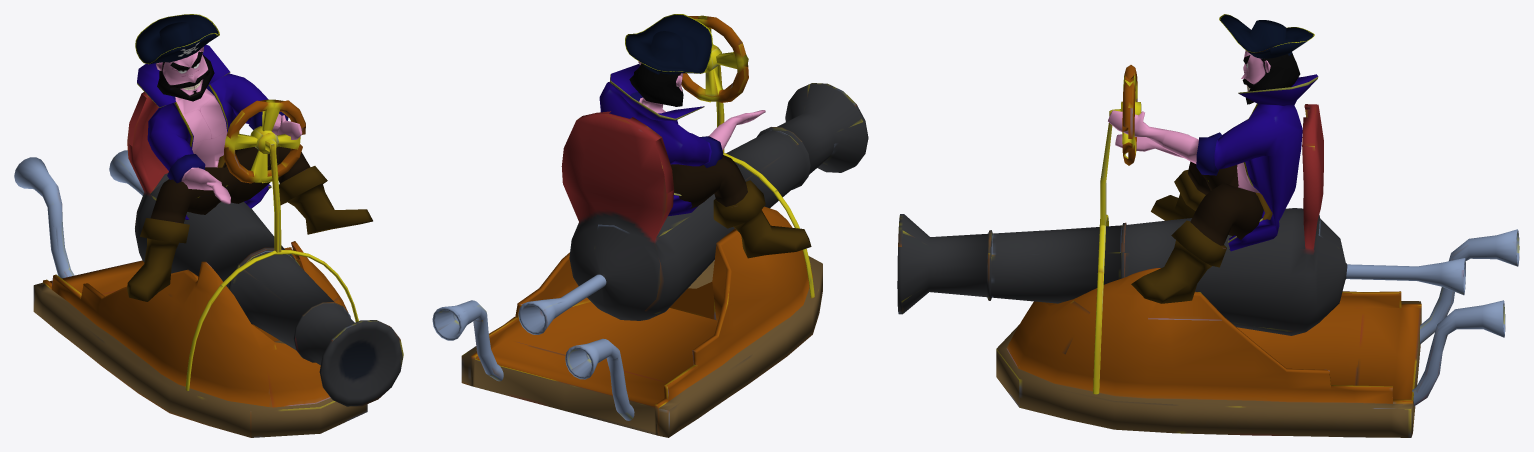
The model's file is pirataGiroDer_000170.obj.
3 renders of one model, left to right at view 1: azimuth 30°, elevation 25°; view 2: azimuth 150°, elevation 25°; view 3: azimuth 270°, elevation 25°, orthographic. The views are drawn at different scales.
Parts seen in each view (by area): view 1: carro_pirata, Pirata_PirataH_Pirata_PirataH.001; view 2: carro_pirata, Pirata_PirataH_Pirata_PirataH.001; view 3: carro_pirata, Pirata_PirataH_Pirata_PirataH.001.
Part boxes in pixels (x1,y1,x2,y2): carro_pirata: (14,92,403,437); Pirata_PirataH_Pirata_PirataH.001: (127,14,372,301); carro_pirata: (432,15,868,437); Pirata_PirataH_Pirata_PirataH.001: (599,14,811,258); carro_pirata: (897,65,1519,437); Pirata_PirataH_Pirata_PirataH.001: (1108,14,1318,303).
Size of the model in its own units: 5.66 by 7.51 by 12.1.
Materials: 2 (2 with a texture image).
